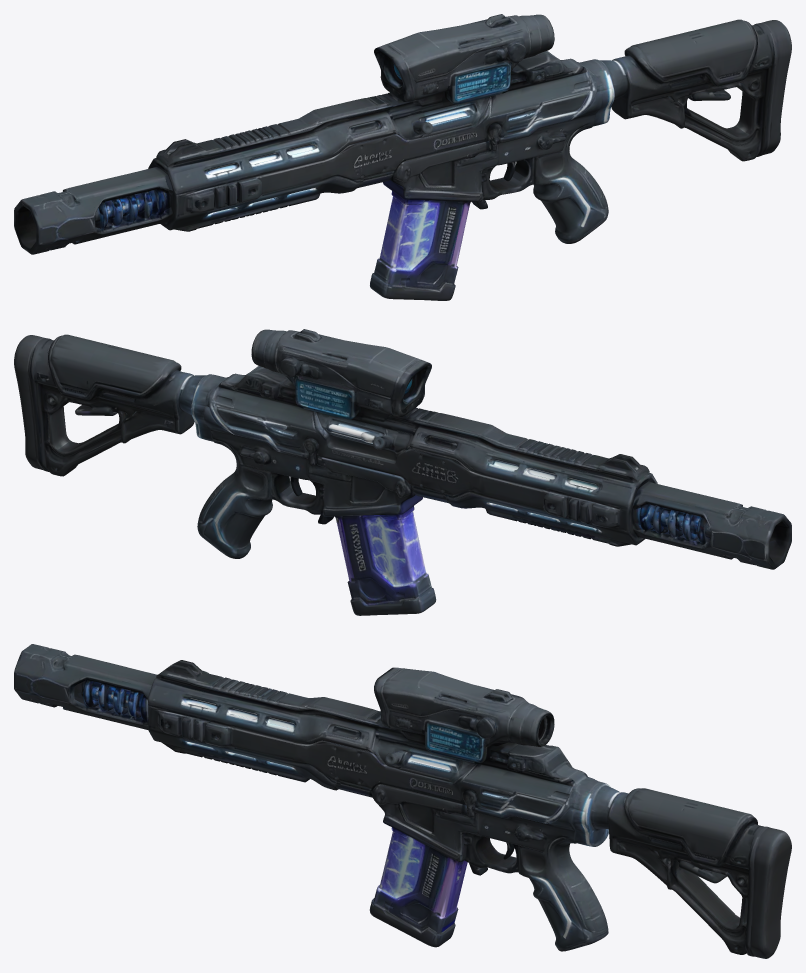
File: rifle.glb
The picture shows the model from 3 angles, top to bottom: view 1: azimuth 30°, elevation 25°; view 2: azimuth 150°, elevation 25°; view 3: azimuth 330°, elevation 25°; orthographic projection.
Visible parts, largest first — view 1: node_0; view 2: node_0; view 3: node_0.
Part boxes in pixels (left/top/right/bottom): node_0: left=14, top=14, right=791, bottom=300; node_0: left=14, top=329, right=791, bottom=615; node_0: left=14, top=644, right=791, bottom=958.
Bounding box in the file's own units: 1.19 × 0.3944 × 0.1087.
1 material, 1 textured.
